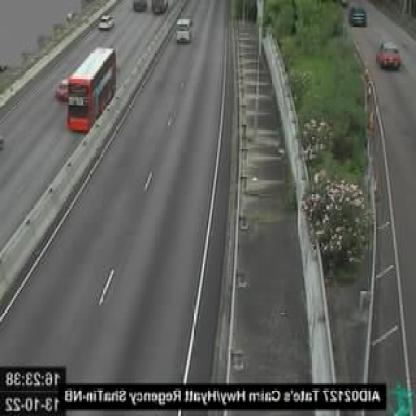Bus: (68, 48, 116, 132)
Car: (377, 39, 402, 71), (174, 17, 192, 44), (53, 74, 70, 101), (350, 7, 368, 28), (98, 16, 113, 30)
